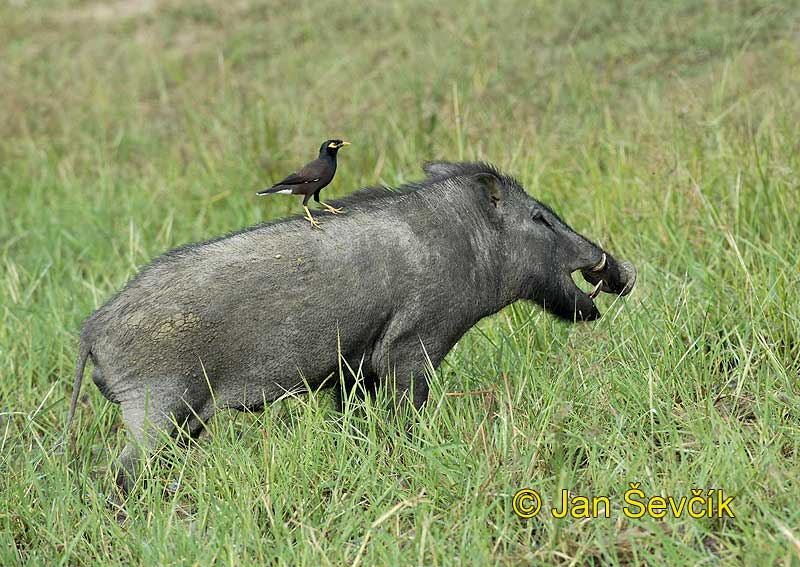wild boar: (50, 159, 633, 486)
